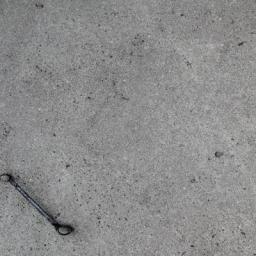FOD: (1, 165, 77, 239)
